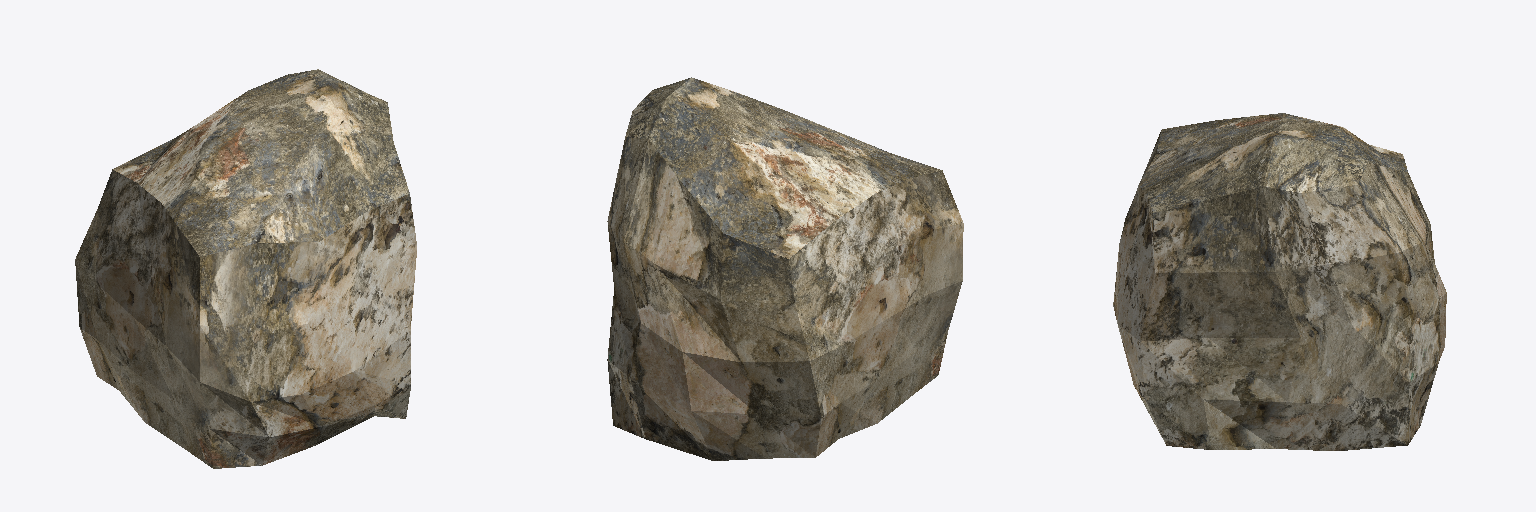
3 views of the same model, side by side, from view 1: azimuth 30°, elevation 25°; view 2: azimuth 150°, elevation 25°; view 3: azimuth 270°, elevation 25° (orthographic).
Parts seen in each view (by area): view 1: 立方体; view 2: 立方体; view 3: 立方体.
Boxes of the visible parts, x1,y1,x2,y2 form: 立方体: [75, 69, 416, 468]; 立方体: [607, 77, 963, 460]; 立方体: [1113, 113, 1446, 450].
Bounding box in the file's own units: 2.2 × 2.63 × 2.53.
Materials: 1 (1 with a texture image).